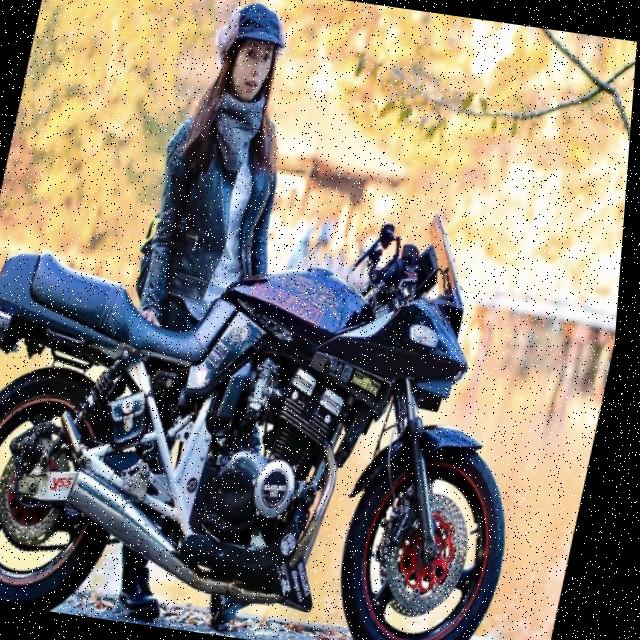illegal_helmet: (200, 0, 297, 112)
